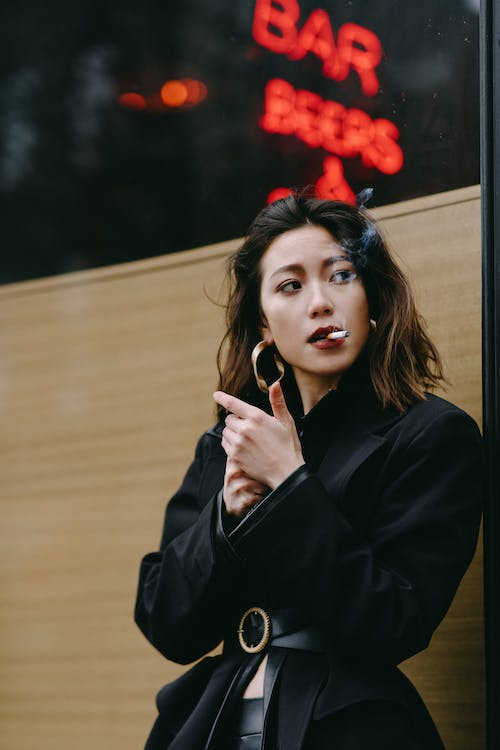cigarette: (327, 329, 352, 343)
